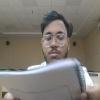notebook: (0, 59, 85, 99)
